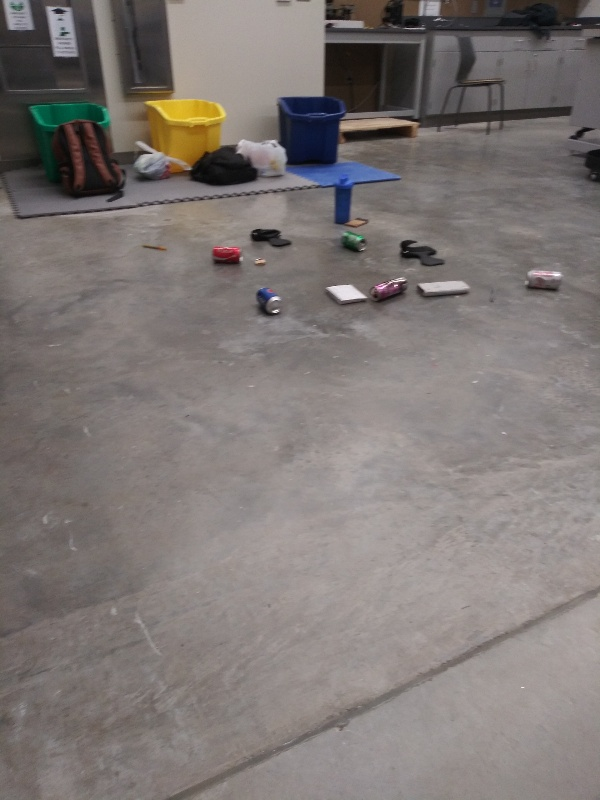can: (367, 272, 410, 303), (520, 265, 565, 291), (253, 284, 283, 316), (207, 243, 247, 265), (339, 226, 369, 254)
